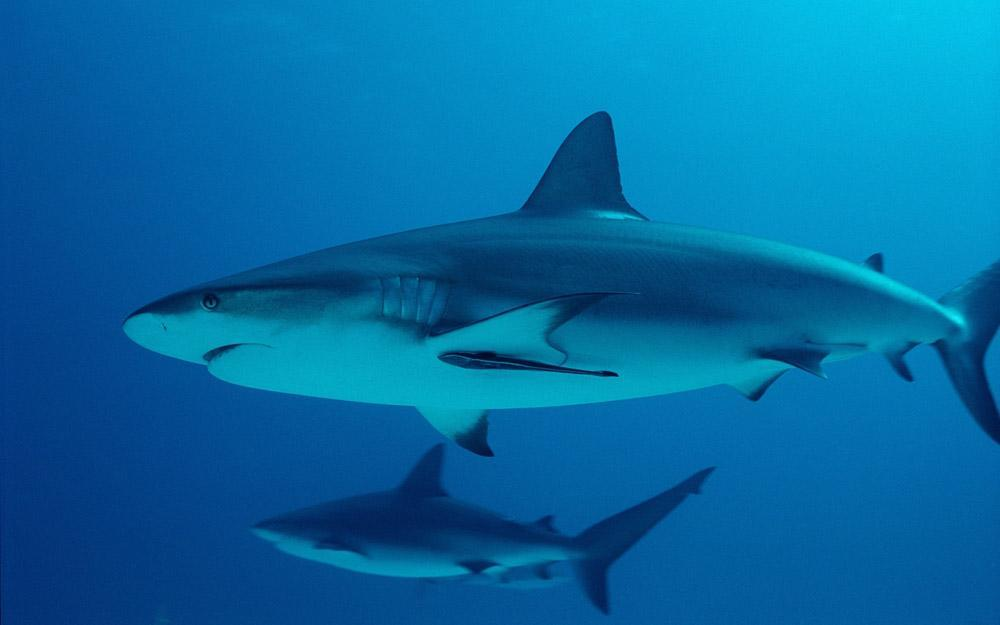fish: (120, 112, 1000, 460), (246, 441, 720, 611)
